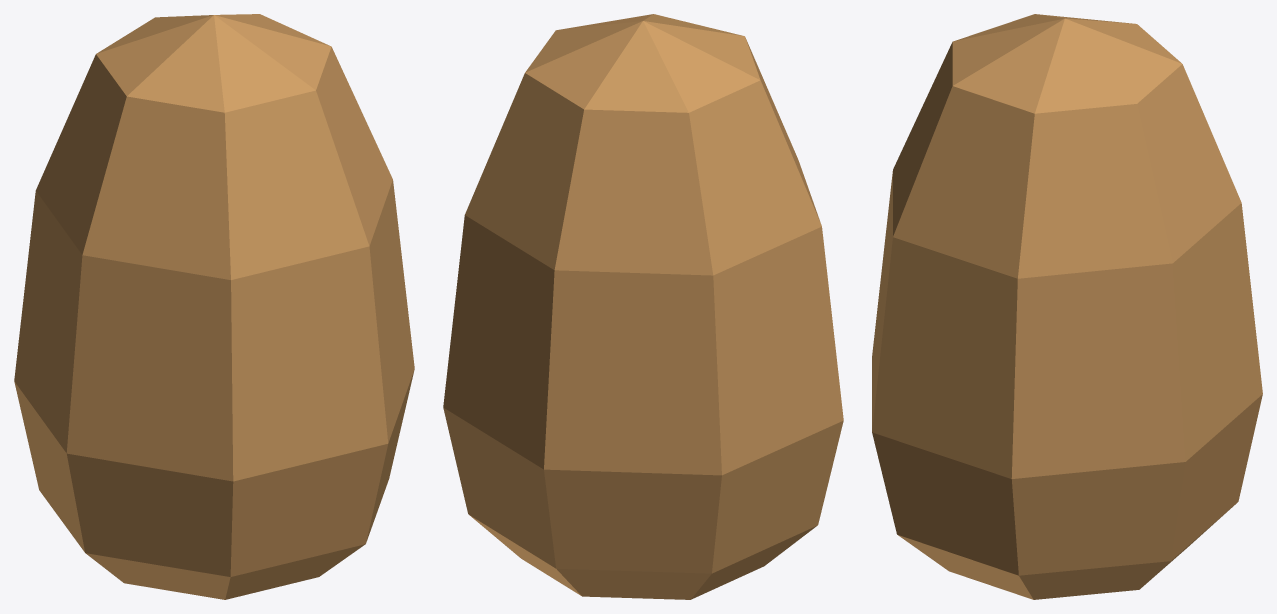
Rendered from nature_egg-dino.fbx.
3 views of the same model, side by side, from view 1: azimuth 30°, elevation 25°; view 2: azimuth 150°, elevation 25°; view 3: azimuth 270°, elevation 25° (orthographic).
Visible parts, largest first — view 1: nature_egg_dino; view 2: nature_egg_dino; view 3: nature_egg_dino.
Part boxes in pixels (x1=…): nature_egg_dino: x1=14, y1=14, x2=414, y2=599; nature_egg_dino: x1=443, y1=14, x2=843, y2=599; nature_egg_dino: x1=872, y1=14, x2=1262, y2=599.
Bounding box in the file's own units: 132 × 200 × 128.
